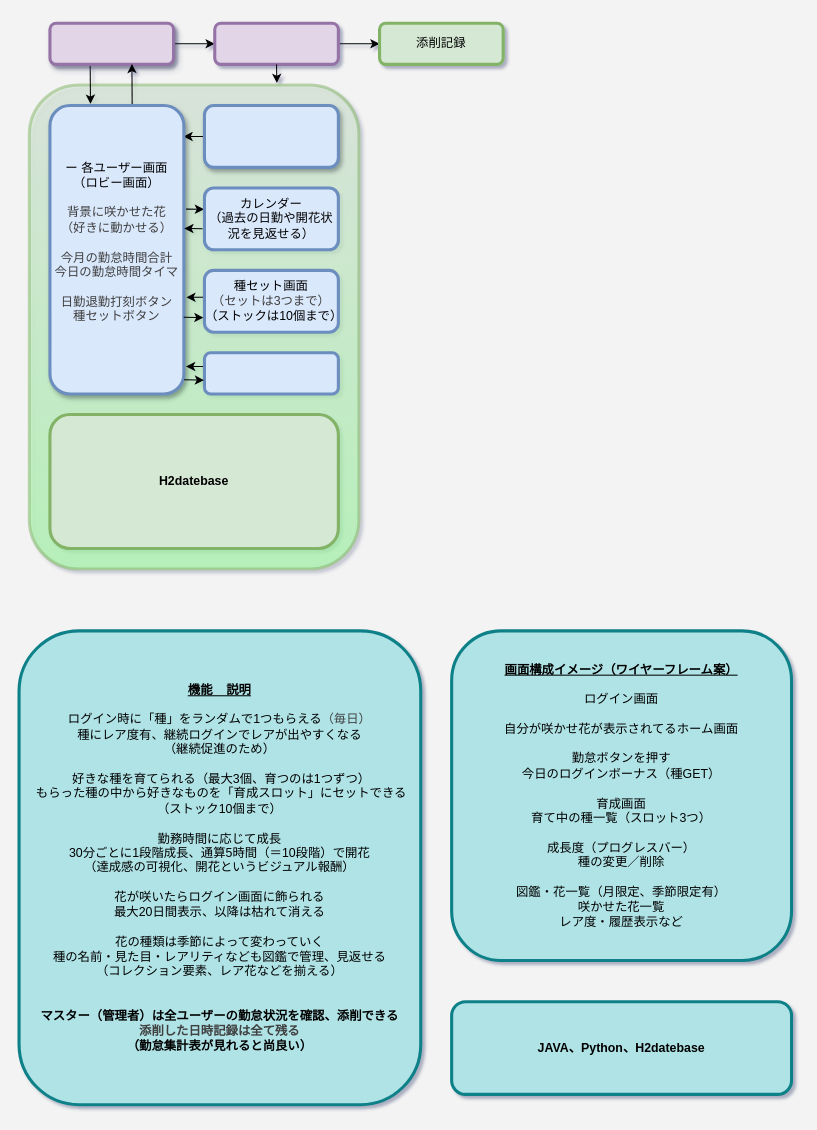
This 817x1130 diagram has some shape labels left out. The shapes that lost their labels are listed below. From the top down, each one's centre as x and y in pixels, then its label:
[112,45]: + ログイン画面
[276,43]: ー マスター権限
[272,137]: ログインボーナス （強制） （貰える種はランダム）
[270,373]: 図鑑 （咲かせた花）
